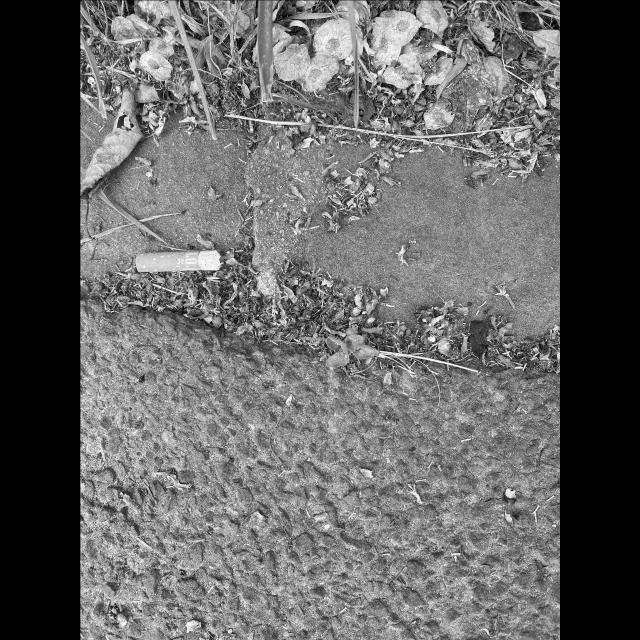cigarette: (135, 250, 223, 272)
